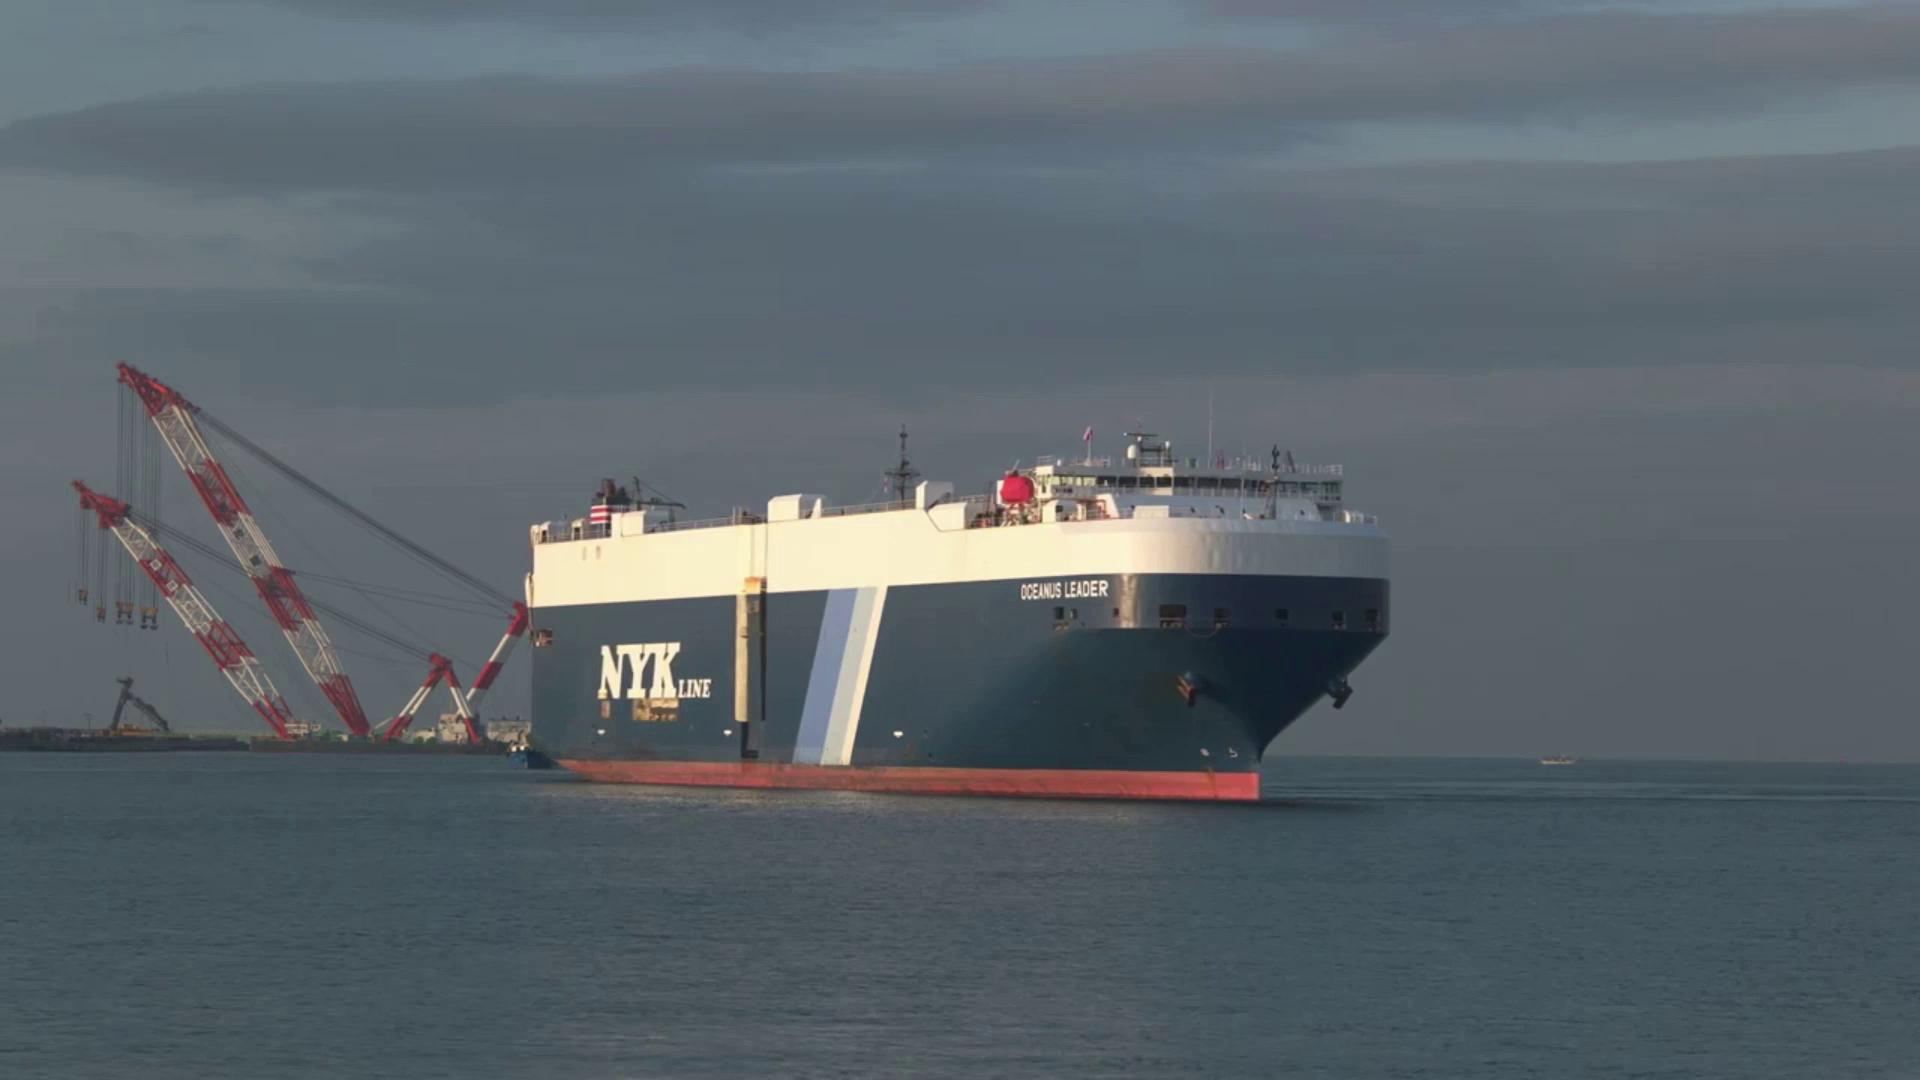OCR: (585, 636, 721, 709), (1017, 578, 1112, 607)
